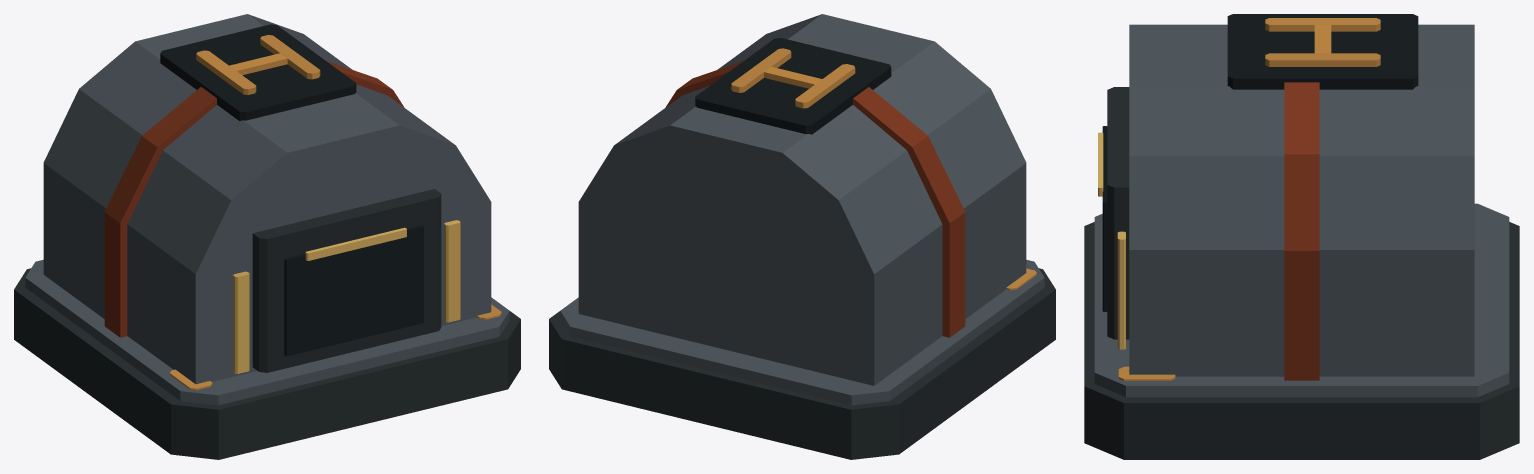
File: hangar.glb
The picture shows the model from 3 angles, left to right: view 1: azimuth 30°, elevation 25°; view 2: azimuth 150°, elevation 25°; view 3: azimuth 270°, elevation 25°; orthographic projection. The views are drawn at different scales.
Parts seen in each view (by area): view 1: hangar; view 2: hangar; view 3: hangar.
Part boxes in pixels (x1=…): hangar: x1=14, y1=14, x2=520, y2=459; hangar: x1=549, y1=14, x2=1055, y2=459; hangar: x1=1084, y1=14, x2=1519, y2=459.
Size of the model in its own units: 2.19 by 1.71 by 2.08.
